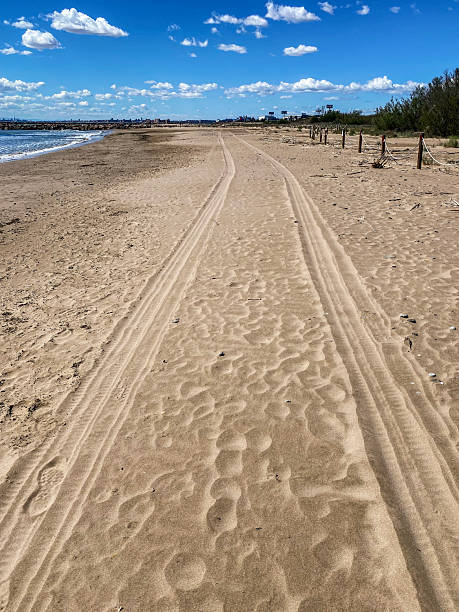vehicle_track: (0, 134, 234, 611), (235, 136, 458, 610)
